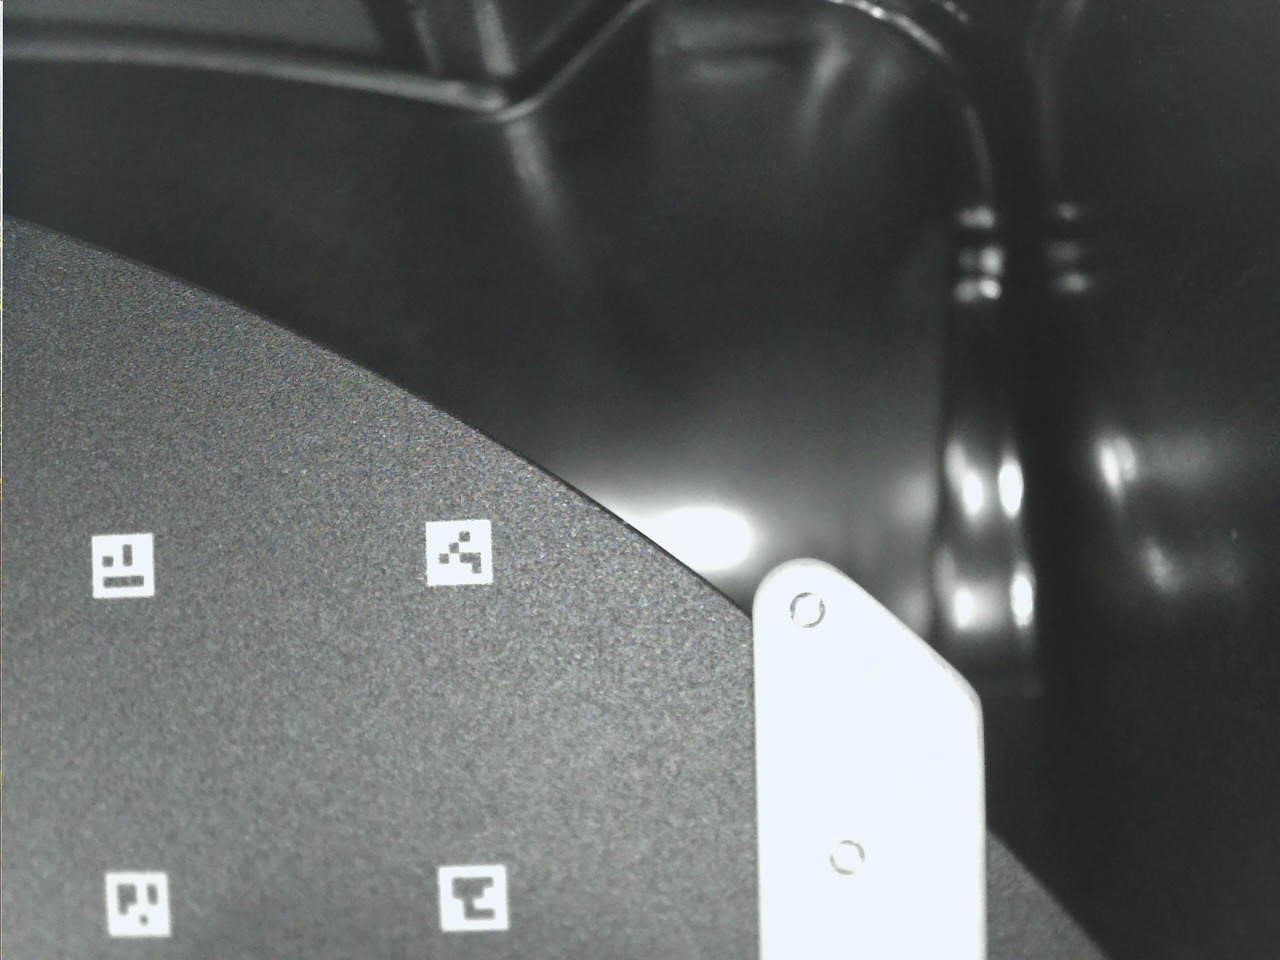forktip: (733, 539, 1005, 960)
